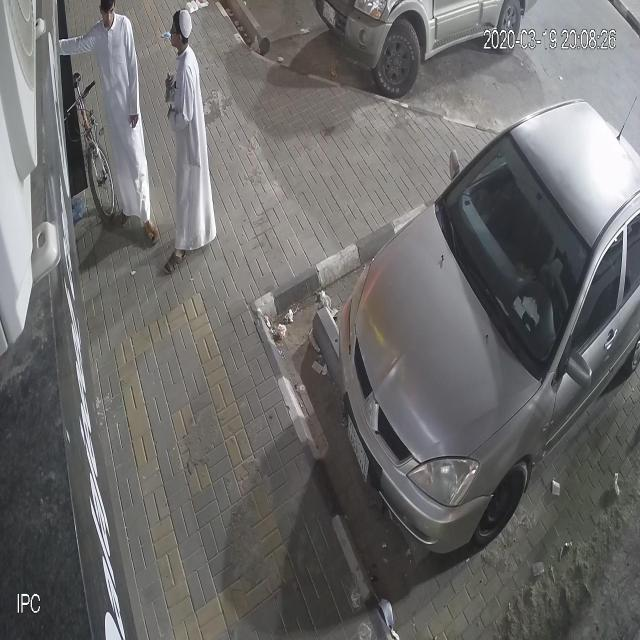license_plate: (348, 412, 370, 483), (321, 0, 336, 28)
